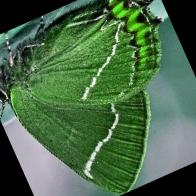butterfly: (0, 0, 164, 195)
